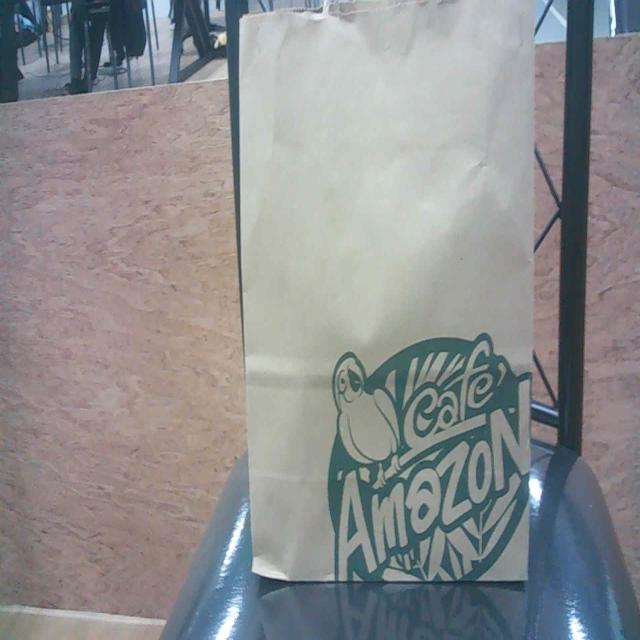bag: (243, 6, 536, 581)
